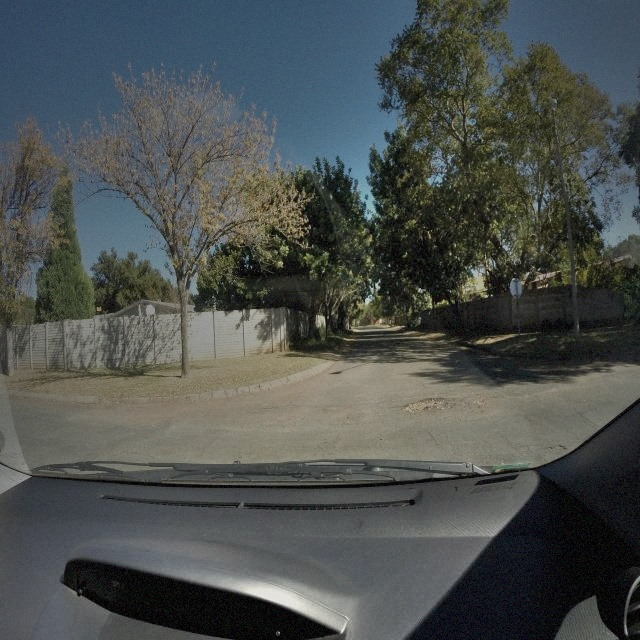pothole: (402, 394, 454, 413), (550, 441, 566, 452)
